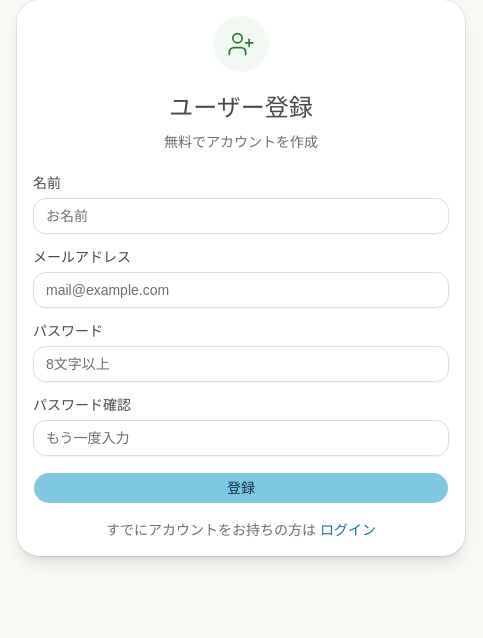
Test: RegisterForm › shows field-level validation errors from API
Type "テスト" into the field labelled "名前" at (241, 216), box [33,198,449,234]
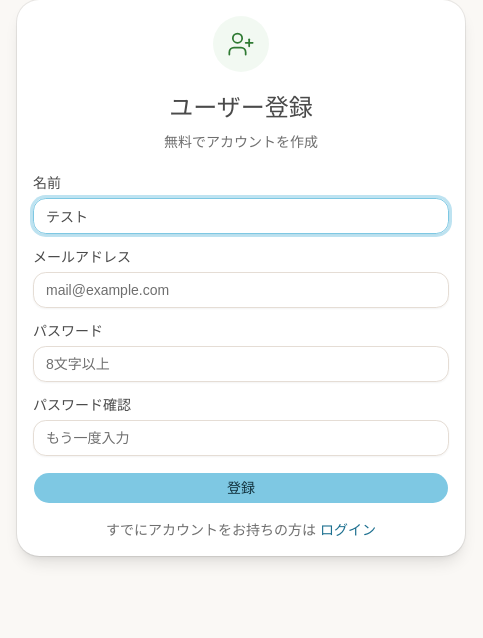
Type "test@example.com" into the field labelled "メールアドレス" at (241, 290), box [33,272,449,308]
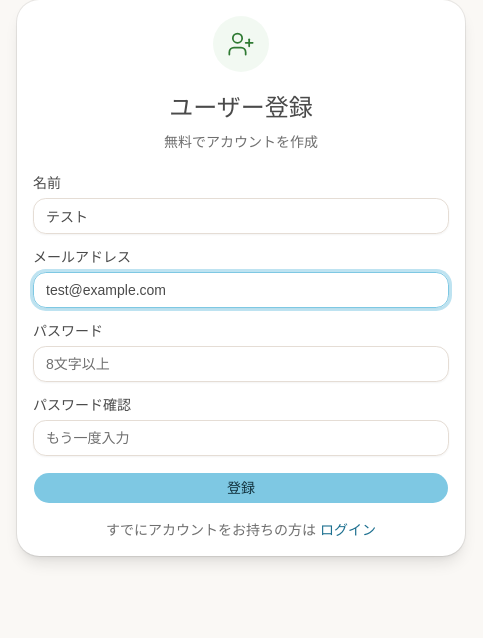
Type "short" into the password field labelled "パスワード" at (241, 364), box [33,346,449,382]
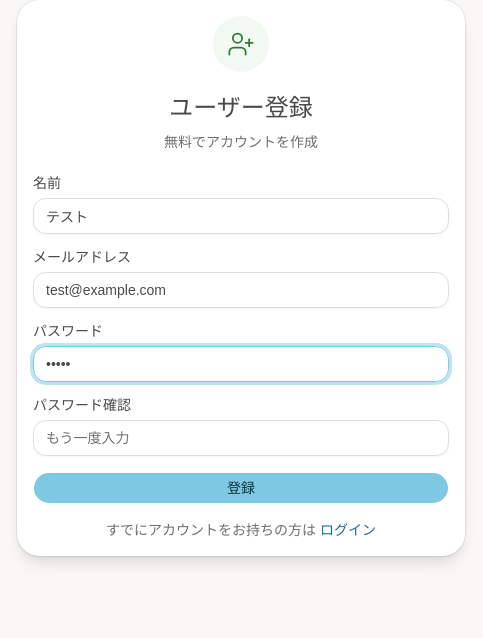
Type "short" into the password field labelled "パスワード確認" at (241, 438), box [33,420,449,456]
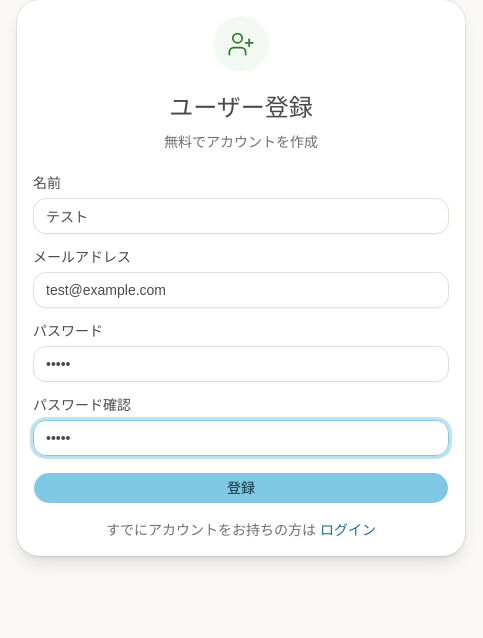
Click the button "登録" at (241, 488), box [33,472,449,504]
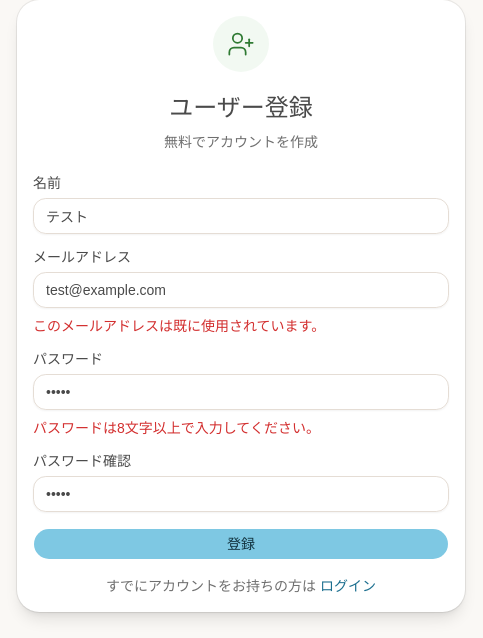
Result: the text "このメールアドレスは既に使用されています。" is shown at [33,318,325,334]
Result: the text "パスワードは8文字以上で入力してください。" is shown at [33,420,320,436]
